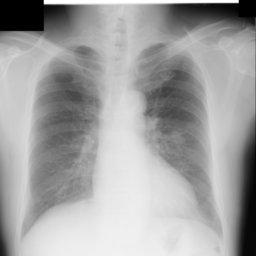left lobe: (136, 44, 221, 234)
right lobe: (24, 46, 103, 234)
